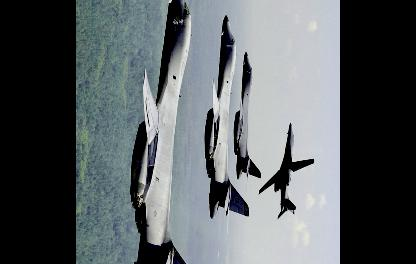AV8B: (130, 0, 203, 263), (204, 12, 249, 234), (259, 122, 315, 218), (233, 49, 261, 189)
